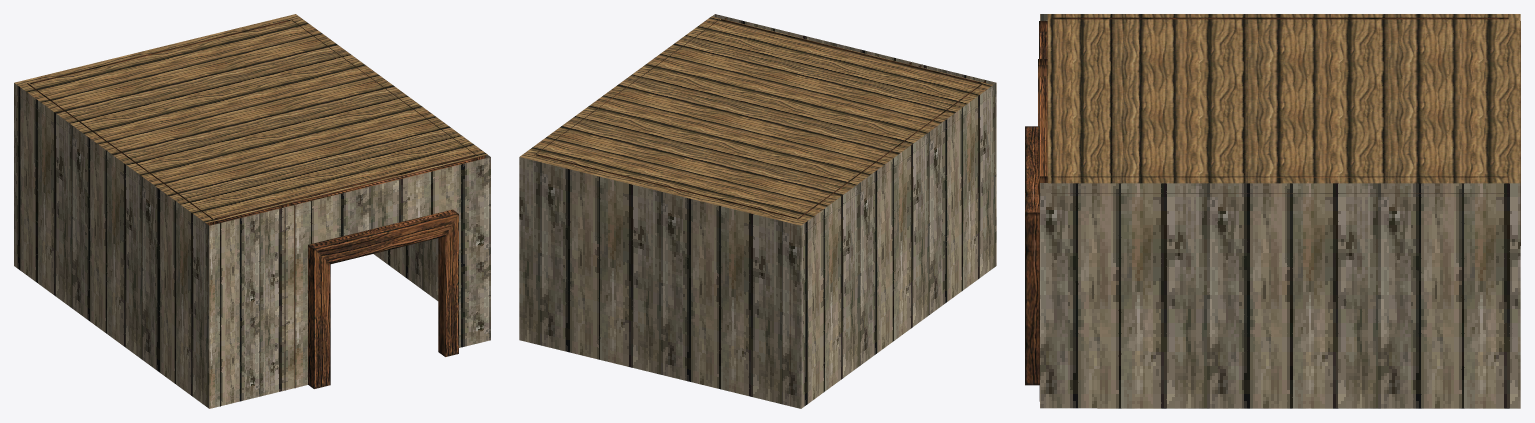
The model's file is LAKETOWN_WAREHOUSE3_PS_WH3_WEAPONROOM__GX.fbx.
The picture shows the model from 3 angles, left to right: view 1: azimuth 30°, elevation 25°; view 2: azimuth 150°, elevation 25°; view 3: azimuth 270°, elevation 25°; orthographic projection. The views are drawn at different scales.
Parts seen in each view (by area): view 1: LAKETOWN_WAREHOUSE3_PS_WH3_WEAPONROOM__GX; view 2: LAKETOWN_WAREHOUSE3_PS_WH3_WEAPONROOM__GX; view 3: LAKETOWN_WAREHOUSE3_PS_WH3_WEAPONROOM__GX.
Boxes of the visible parts, x1,y1,x2,y2 form: LAKETOWN_WAREHOUSE3_PS_WH3_WEAPONROOM__GX: (14, 14, 490, 408); LAKETOWN_WAREHOUSE3_PS_WH3_WEAPONROOM__GX: (519, 14, 996, 408); LAKETOWN_WAREHOUSE3_PS_WH3_WEAPONROOM__GX: (1025, 14, 1520, 408).
Size of the model in its own units: 67110 by 41955 by 83001.
Materials: 4 (4 with a texture image).
